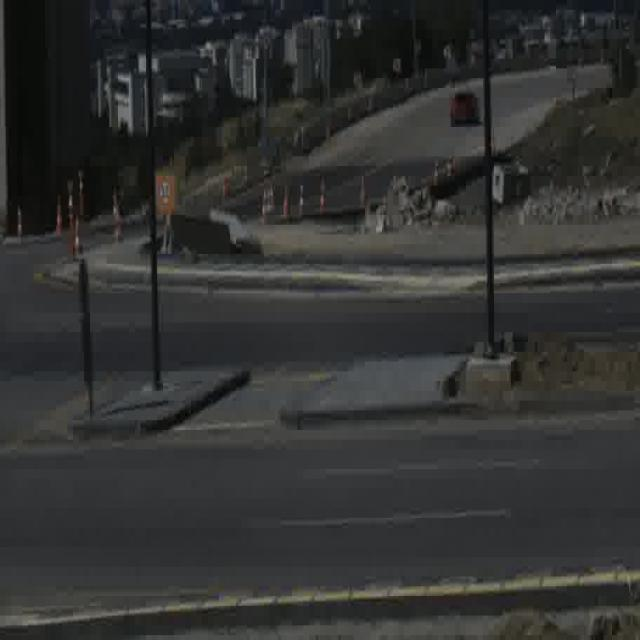Car: (449, 86, 481, 128)
